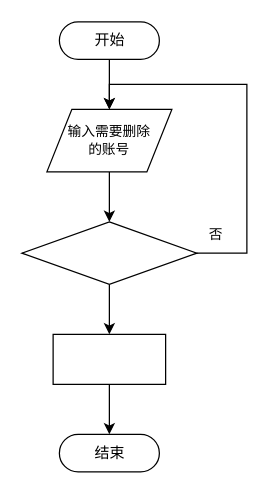
Image size: 279x494. Some labels were removed from this diagram. The centre of each missing label's shape, as x and y in pixels:
删除账号: point (109, 358)
验证当前账号权限: point (109, 252)
